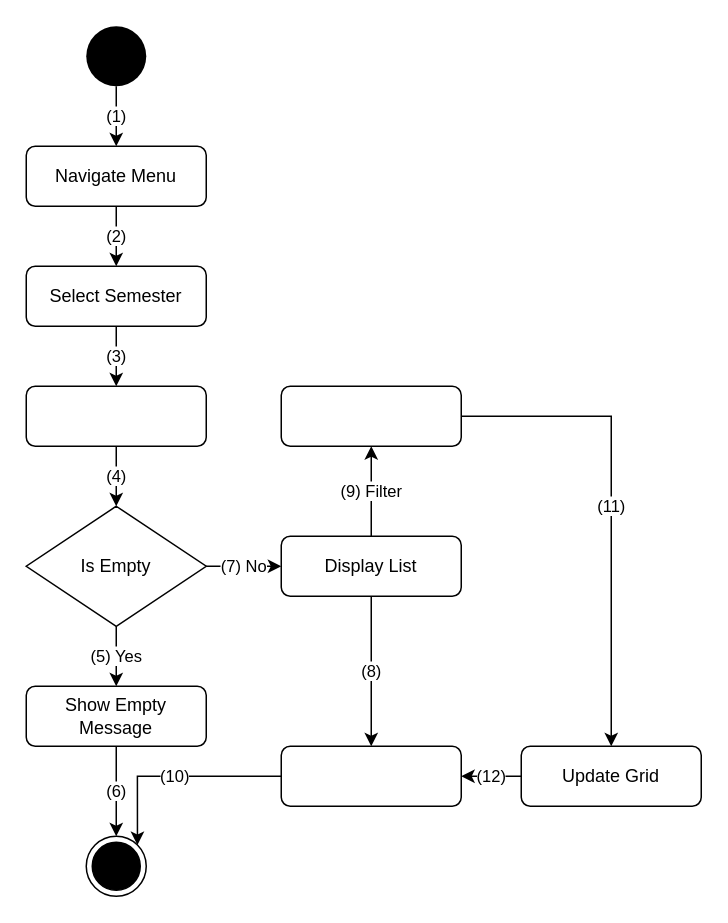
This 728x923 diagram has some shape labels left out. The box of each missing label's shape, as (x1, y1, x2, y2) in pixels:
Filter By Rating: (280, 385, 461, 446)
Query Data: (25, 385, 206, 446)
View Details: (280, 745, 461, 806)
